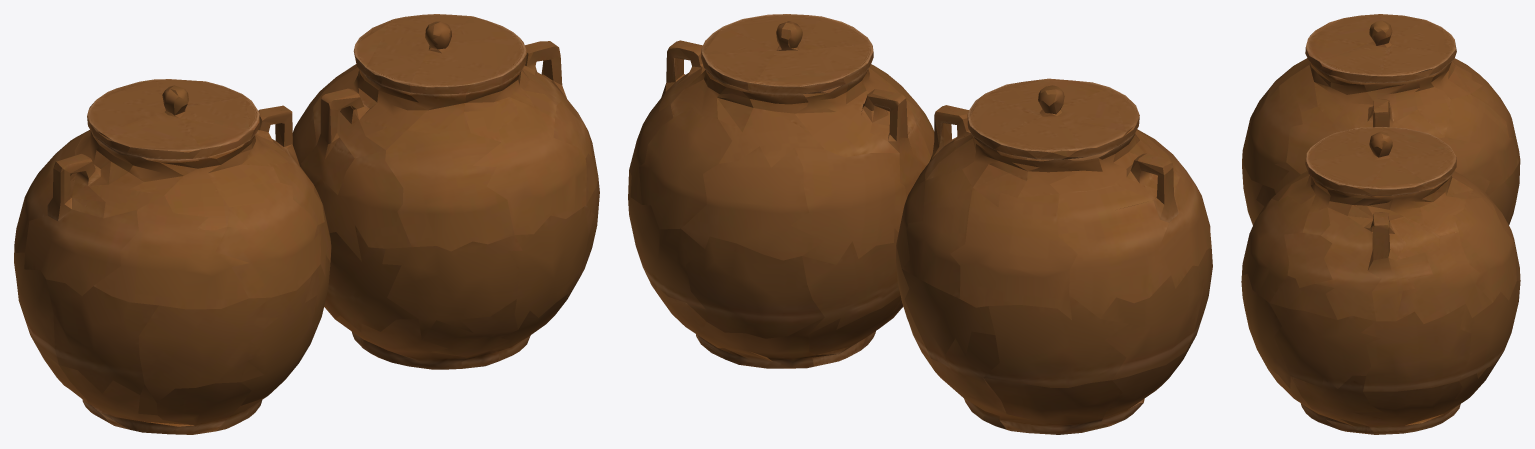
File: jars.glb
3 renders of one model, left to right at view 1: azimuth 30°, elevation 25°; view 2: azimuth 150°, elevation 25°; view 3: azimuth 270°, elevation 25°, orthographic. The views are drawn at different scales.
Size of the model in its own units: 1.9 by 1.04 by 0.9784.
1 material, 1 textured.
